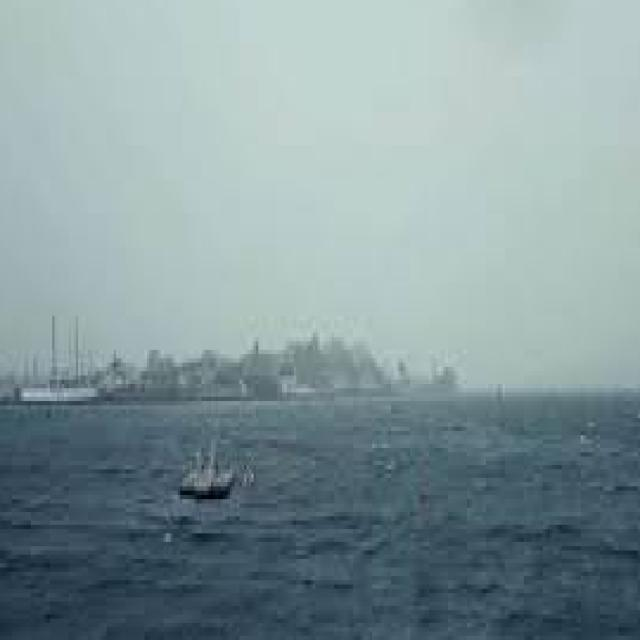fishing boat: (174, 426, 248, 529)
